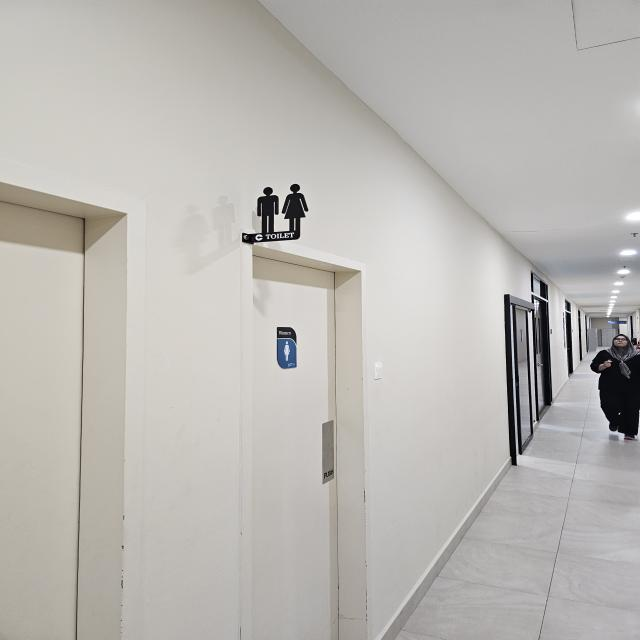door: (246, 252, 368, 638)
footpath: (479, 455, 640, 640)
person: (588, 332, 639, 443)
